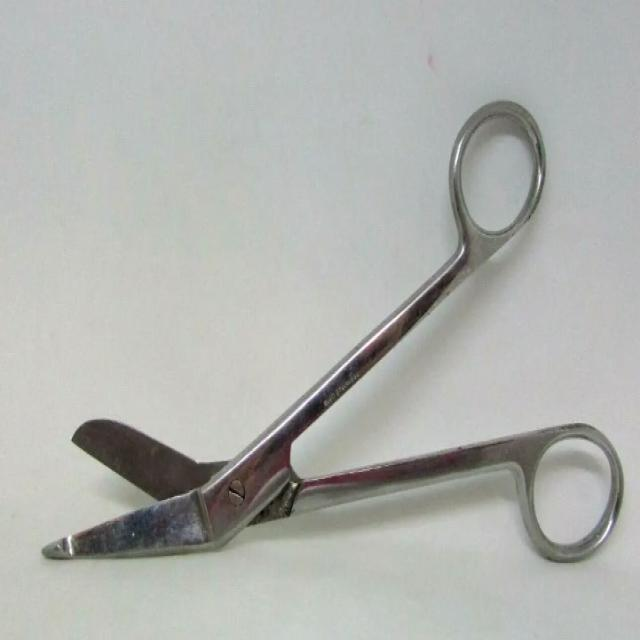Bandage Sciccors: (39, 88, 626, 572)
